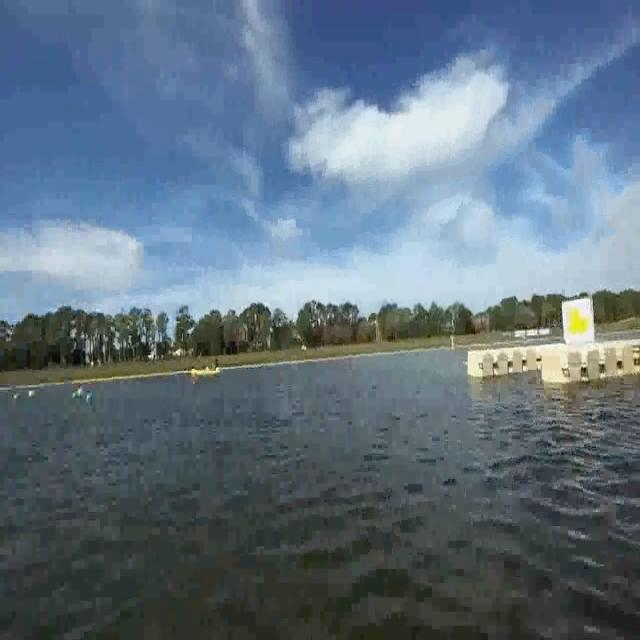yellow-duck: (563, 298, 593, 340)
